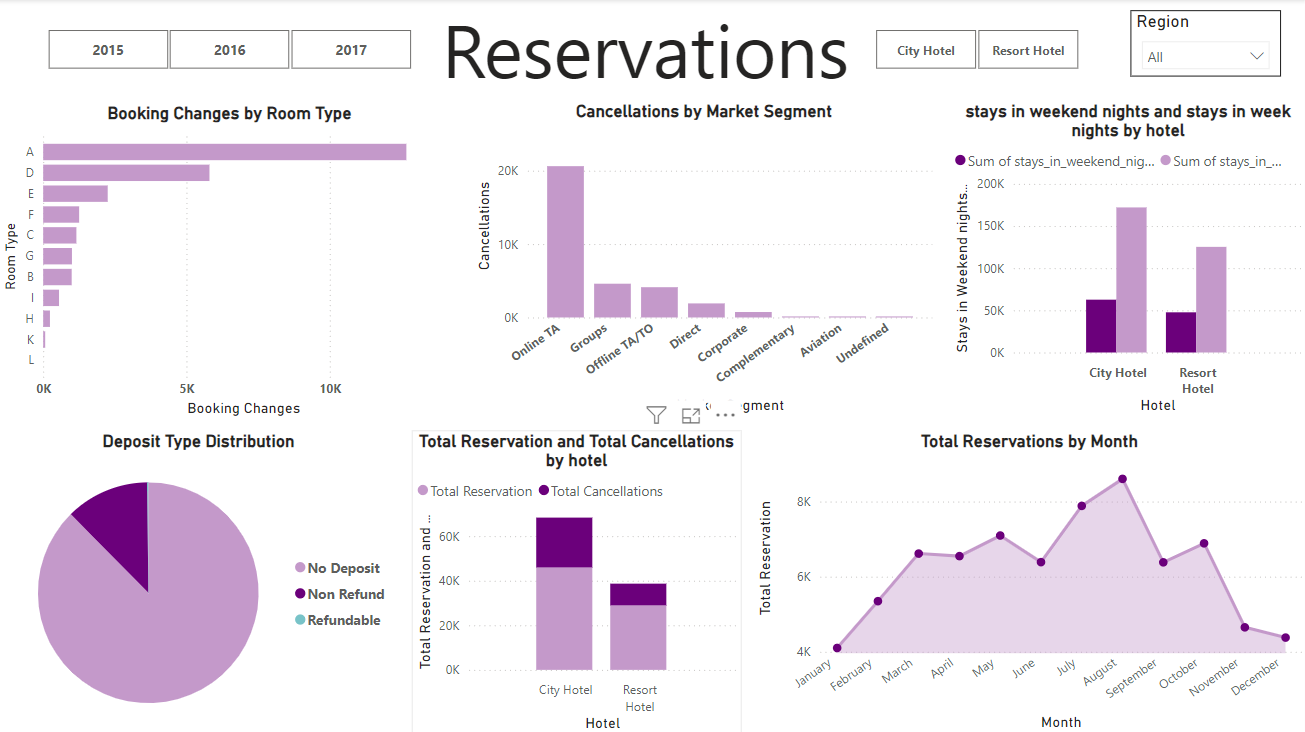

What the dashboard file says about the page in this screenshot:
{"tool":"powerbi","page":{"name":"RESERVATIONS","canvas":[1280,720],"ordinal":2},"visuals":[{"type":"textbox","box":[429.5,0,426.8,98.8],"z":0},{"type":"barChart","title":"Booking Changes by Room Type","fields":{"Y":["Sum(hotel_bookings.booking_changes)"],"Category":["hotel_bookings.assigned_room_type"]},"box":[0,101.5,452.8,311.5],"z":1000},{"type":"pieChart","title":"Deposit Type Distribution","fields":{"Y":["CountNonNull(hotel_bookings.deposit_type)"],"Category":["hotel_bookings.deposit_type"]},"box":[0,421.3,392.5,299.1],"z":2000},{"type":"columnChart","title":"Cancellations by Market Segment","fields":{"Category":["hotel_bookings.market_segment"],"Y":["Sum(hotel_bookings.is_cancelled)"]},"box":[462.4,98.8,456.9,311.5],"z":3000},{"type":"columnChart","fields":{"Category":["hotel_bookings.hotel"],"Y":["Geo data.Total Reservation","hotel_bookings.Total Cancellations"]},"box":[404.8,421.3,322.5,299.1],"z":4000},{"type":"areaChart","title":"Total Reservations by Month","fields":{"Y":["Geo data.Total Reservation"],"Category":["hotel_bookings.Date .Variation.Date Hierarchy.Month"]},"box":[736.9,421.3,543.4,299.1],"z":5000},{"type":"clusteredColumnChart","title":"stays in weekend nights and stays in week nights by hotel","fields":{"Category":["hotel_bookings.hotel"],"Y":["Sum(hotel_bookings.stays_in_weekend_nights)","Sum(hotel_bookings.stays_in_week_nights)"]},"box":[930.4,98.8,349.9,311.5],"z":6000},{"type":"slicer","fields":{"Values":["hotel_bookings.hotel"]},"box":[832.9,23.3,248.4,52.1],"z":7000},{"type":"slicer","fields":{"Values":["hotel_bookings.Date .Variation.Date Hierarchy.Year"]},"box":[23.3,23.3,404.8,52.1],"z":8000},{"type":"slicer","title":"Region","fields":{"Values":["Geo data.region","Geo data.Country"]},"box":[1107.4,11,146.8,64.5],"z":9000}]}

Visuals, with their boxes in screenshot pixels (x1, y1, x2, y2), scaled from the page's 1280x720 canvas onto the 1305x732 screenshot:
textbox: locate(438, 0, 873, 100)
"Booking Changes by Room Type" barChart: locate(0, 103, 462, 420)
"Deposit Type Distribution" pieChart: locate(0, 428, 400, 731)
"Cancellations by Market Segment" columnChart: locate(471, 100, 937, 417)
columnChart - hotel_bookings.hotel x Geo data.Total Reservation: locate(413, 428, 742, 731)
"Total Reservations by Month" areaChart: locate(751, 428, 1304, 731)
"stays in weekend nights and stays in week nights by hotel" clusteredColumnChart: locate(949, 100, 1304, 417)
slicer - hotel_bookings.hotel: locate(849, 24, 1102, 77)
slicer - hotel_bookings.Date .Variation.Date Hierarchy.Year: locate(24, 24, 436, 77)
"Region" slicer: locate(1129, 11, 1279, 77)
